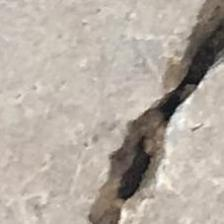Crack: (67, 0, 224, 224)
